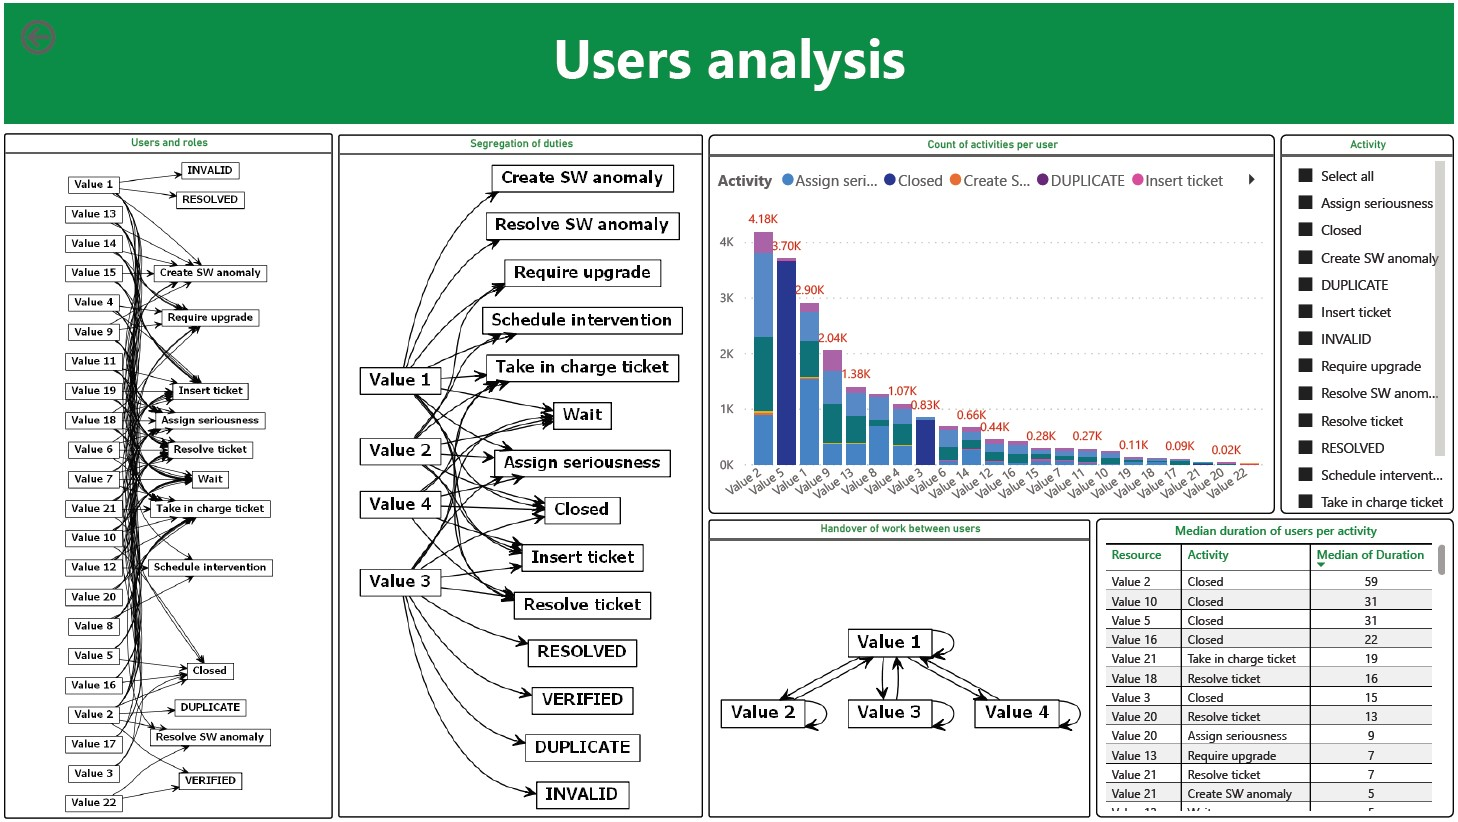

The page's visual inventory and layout, read from the dashboard file:
{"tool":"powerbi","page":{"name":"User","canvas":[1280,720],"ordinal":8},"visuals":[{"type":"shape","box":[0,0,1280,105.8],"z":0},{"type":"textbox","box":[299.1,9.5,682.7,86.2],"z":1000},{"type":"slicer","title":"User","fields":{"Values":["O2C_SAP_log.User"]},"box":[889.9,199.3,147.9,57.5],"z":2000},{"type":"pythonVisual","title":"Segregation of duties","fields":{"Values":["Helpdesk_log.Case ID","Helpdesk_log.Activity","Helpdesk_log.Resource","Helpdesk_log.product","Helpdesk_log.workgroup"]},"box":[294.9,116.5,322.2,602.3],"z":3000},{"type":"pythonVisual","title":"Handover of work between users","fields":{"Values":["Helpdesk_log.Case ID","Helpdesk_log.Activity","Helpdesk_log.Complete Timestamp","Helpdesk_log.Resource","Helpdesk_log.workgroup","Helpdesk_log.Event_ID"]},"box":[622.1,456,337.1,262.7],"z":4000},{"type":"actionButton","box":[10,10,100.1,39.7],"z":5000},{"type":"pythonVisual","title":"Users and roles","fields":{"Values":["Helpdesk_log.Case ID","Helpdesk_log.Activity","Helpdesk_log.Resource","Helpdesk_log.product","Helpdesk_log.workgroup"]},"box":[0,115.2,290,604.8],"z":6000},{"type":"columnChart","title":"Count of activities per user","fields":{"Category":["Helpdesk_log.Resource"],"Y":["CountNonNull(Helpdesk_log.Case ID)"],"Series":["Helpdesk_log.Activity"]},"box":[622.2,116.1,500,334.9],"z":7000},{"type":"slicer","title":"Activity","fields":{"Values":["Helpdesk_log.Activity"]},"box":[1127.1,116.1,152.8,334.9],"z":8000},{"type":"tableEx","title":"Median duration of users per activity","fields":{"Values":["Helpdesk_log.Resource","Helpdesk_log.Activity","Median(Helpdesk_log.Duration)"]},"box":[964.5,454.7,315.4,264],"z":9000}]}

Visuals, with their boxes in screenshot pixels (x1, y1, x2, y2), scaled from the page's 1280x720 canvas onto the 1458x822 screenshot:
shape: box=[0, 0, 1457, 121]
textbox: box=[341, 11, 1118, 109]
"User" slicer: box=[1014, 228, 1182, 293]
"Segregation of duties" pythonVisual: box=[336, 133, 703, 821]
"Handover of work between users" pythonVisual: box=[709, 521, 1093, 821]
actionButton: box=[11, 11, 125, 57]
"Users and roles" pythonVisual: box=[0, 132, 330, 821]
"Count of activities per user" columnChart: box=[709, 133, 1278, 515]
"Activity" slicer: box=[1284, 133, 1457, 515]
"Median duration of users per activity" tableEx: box=[1099, 519, 1457, 821]
